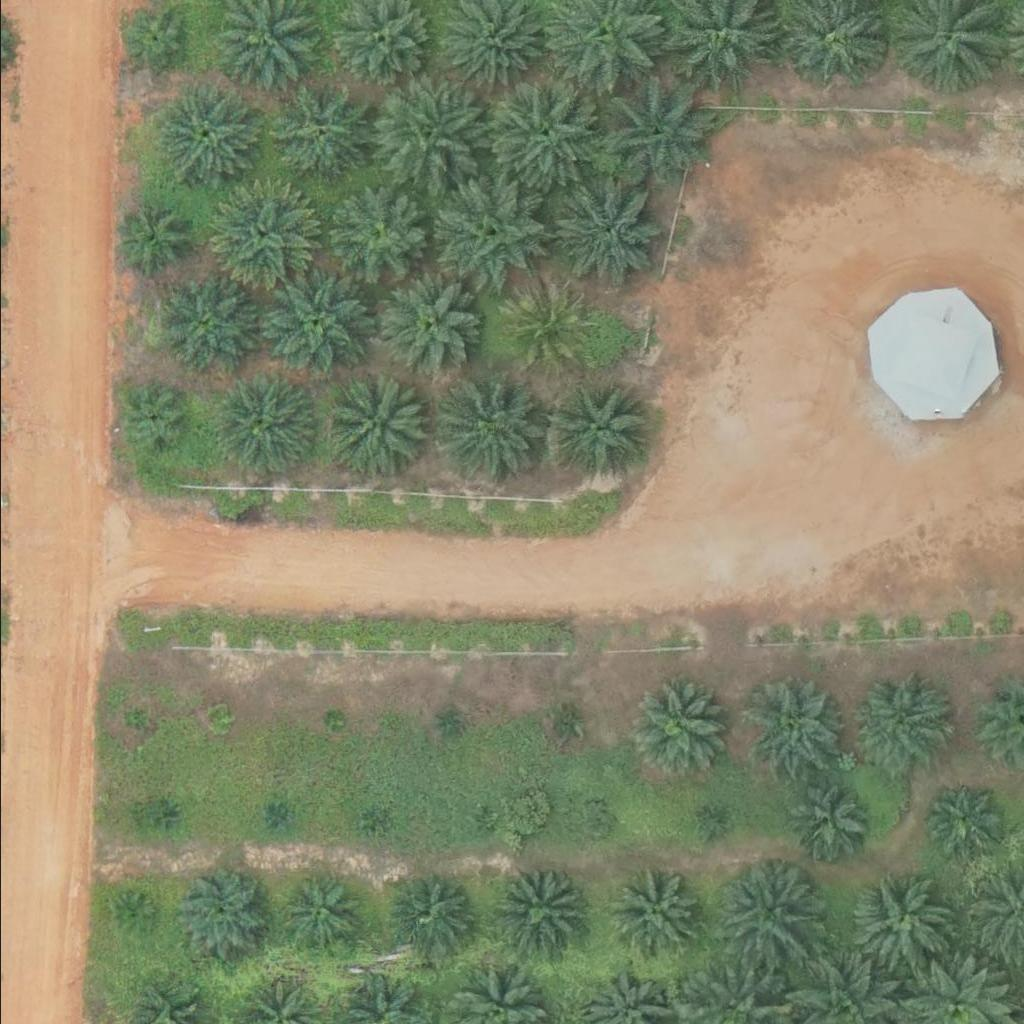Kelapa_Sawit: (711, 856, 825, 969), (548, 180, 662, 293), (432, 178, 546, 291), (597, 78, 711, 191), (260, 267, 373, 380), (491, 78, 605, 190), (199, 180, 312, 292), (163, 856, 276, 968), (434, 375, 547, 487), (367, 75, 480, 187), (852, 669, 953, 769), (741, 677, 842, 777), (633, 675, 734, 775), (546, 377, 647, 477), (154, 274, 255, 374), (263, 83, 364, 183), (156, 87, 257, 187), (847, 874, 947, 974), (327, 372, 427, 472), (213, 377, 313, 477), (374, 278, 474, 378), (324, 184, 424, 284), (276, 874, 365, 962), (385, 871, 473, 959), (496, 283, 584, 371), (613, 872, 701, 959), (491, 865, 579, 952), (784, 778, 872, 865), (115, 383, 191, 458), (924, 785, 1000, 860), (110, 201, 185, 276), (116, 5, 191, 80), (571, 803, 609, 841), (116, 896, 154, 934), (699, 816, 724, 841), (469, 812, 494, 837), (353, 806, 378, 831), (549, 712, 574, 737), (436, 712, 461, 737), (318, 708, 343, 733), (206, 704, 231, 729), (122, 707, 147, 732), (264, 807, 289, 832), (154, 800, 179, 825)
